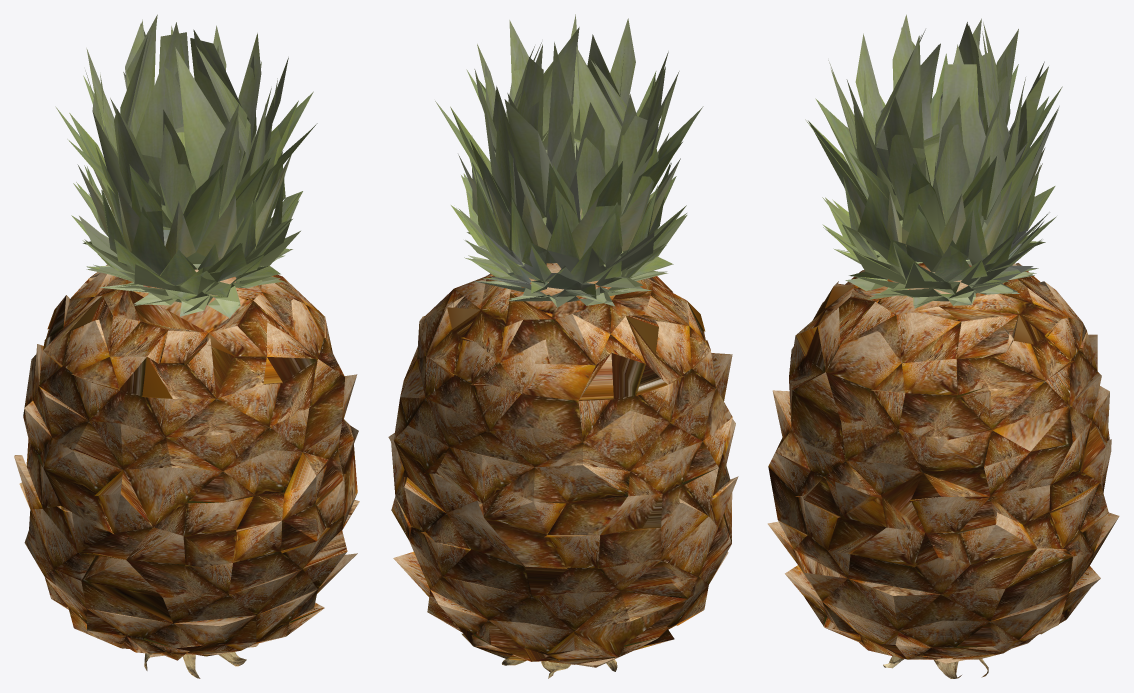
Rendered from pineapple_only.glb.
The picture shows the model from 3 angles, left to right: view 1: azimuth 30°, elevation 25°; view 2: azimuth 150°, elevation 25°; view 3: azimuth 270°, elevation 25°; orthographic projection.
Visible parts, largest first — view 1: pineapple_lod; view 2: pineapple_lod; view 3: pineapple_lod.
Part boxes in pixels (bbox=[...]): pineapple_lod: bbox=[14, 14, 359, 678]; pineapple_lod: bbox=[388, 14, 738, 678]; pineapple_lod: bbox=[767, 14, 1119, 678].
Size of the model in its own units: 0.3082 by 0.6254 by 0.3138.
3 materials, 3 textured.
